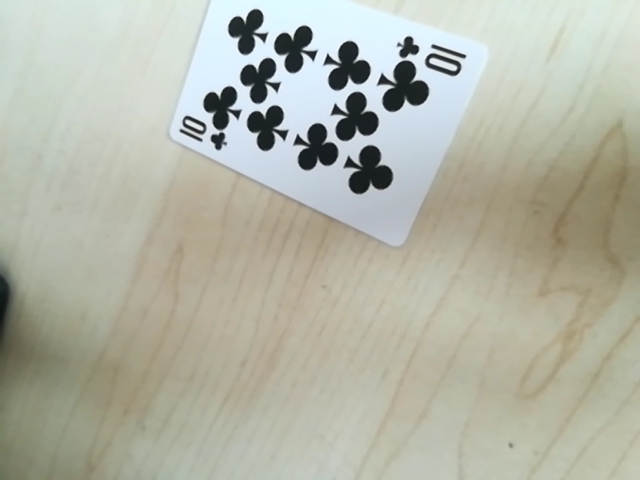mh 10: (393, 31, 475, 72), (176, 114, 231, 152)
